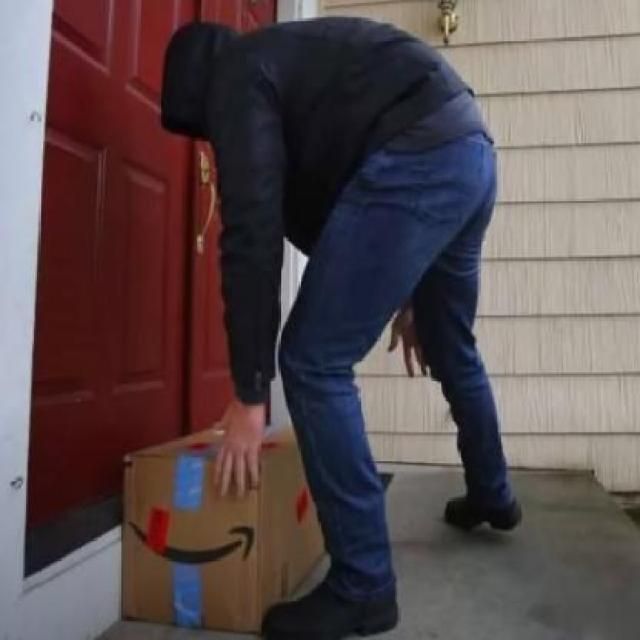cardboxes: (118, 425, 342, 633)
